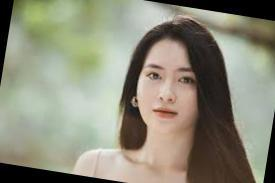Sober: (138, 46, 200, 131)
